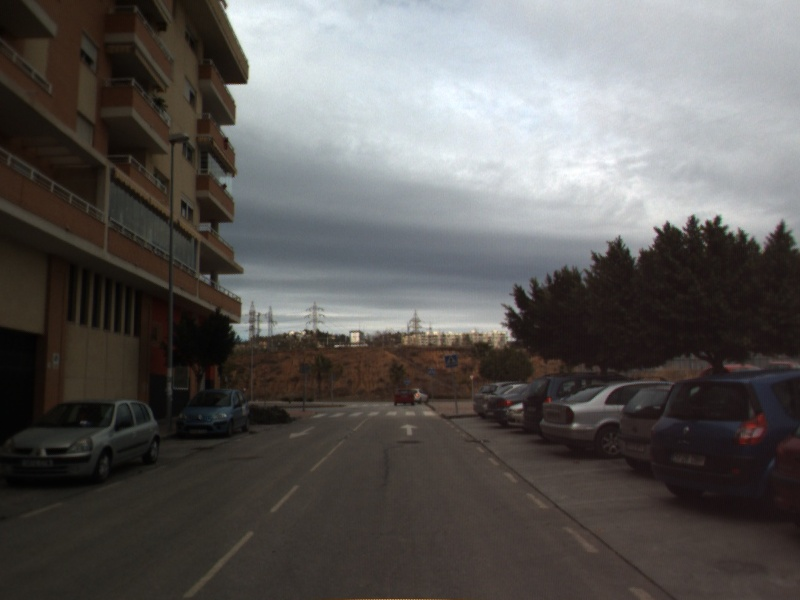STRAIGHT: (398, 422, 420, 437)
